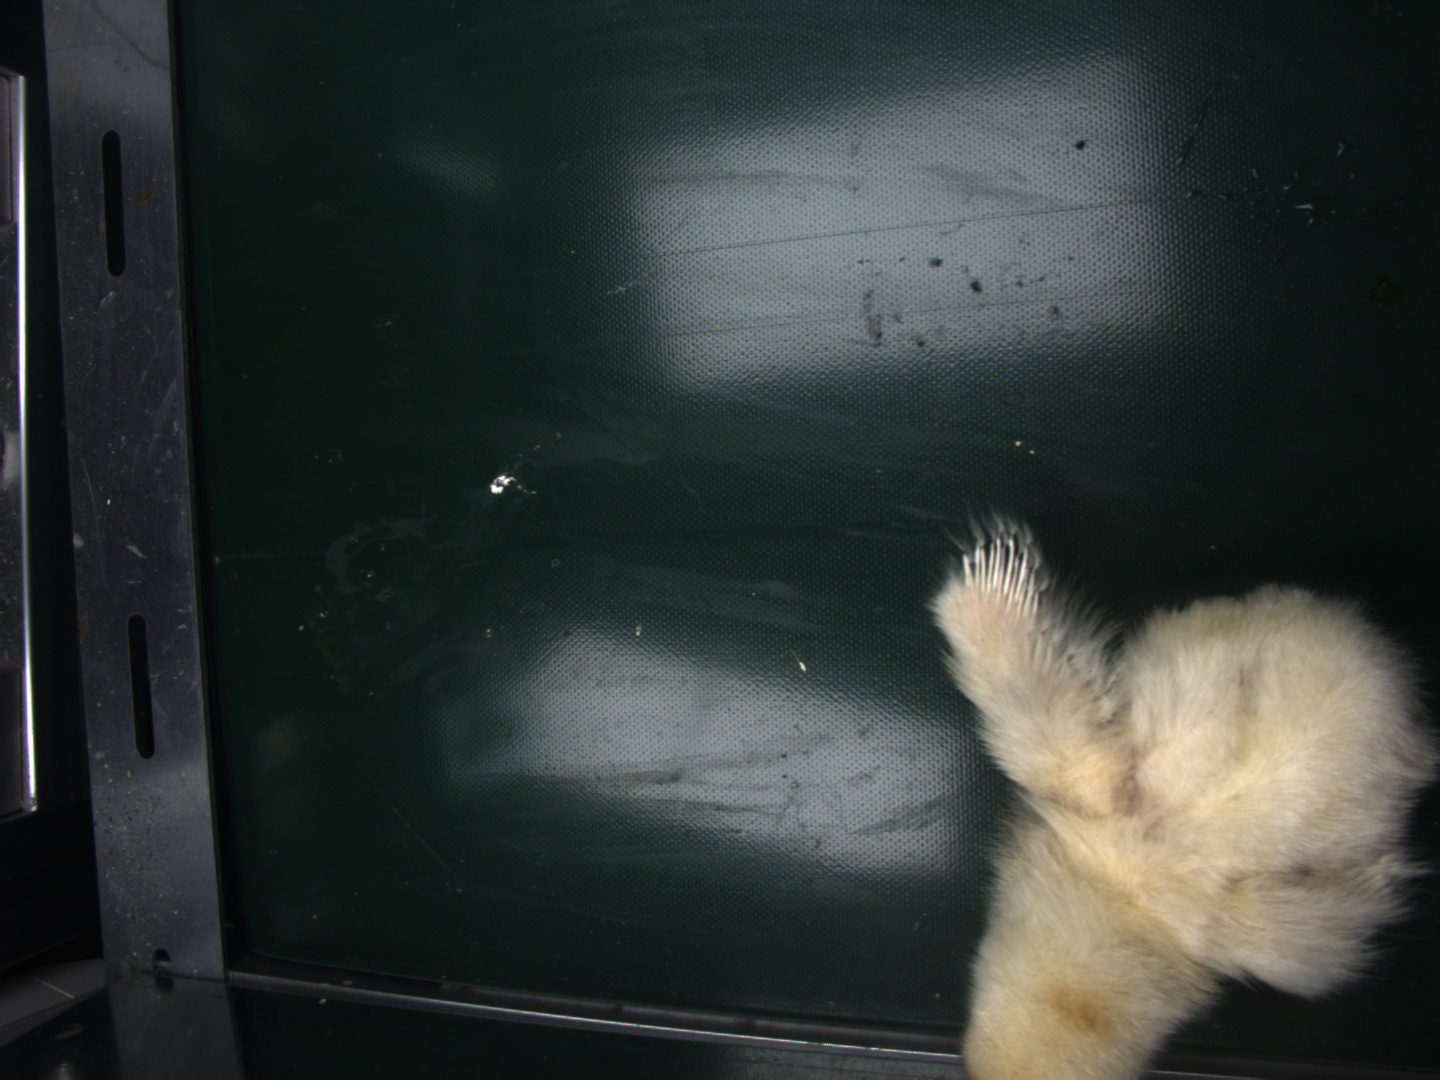male: (968, 529, 1042, 621)
